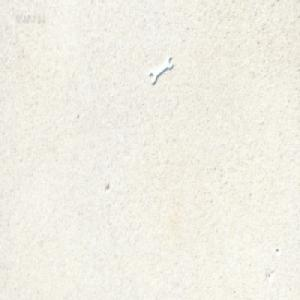Wrench: (149, 55, 172, 85)
